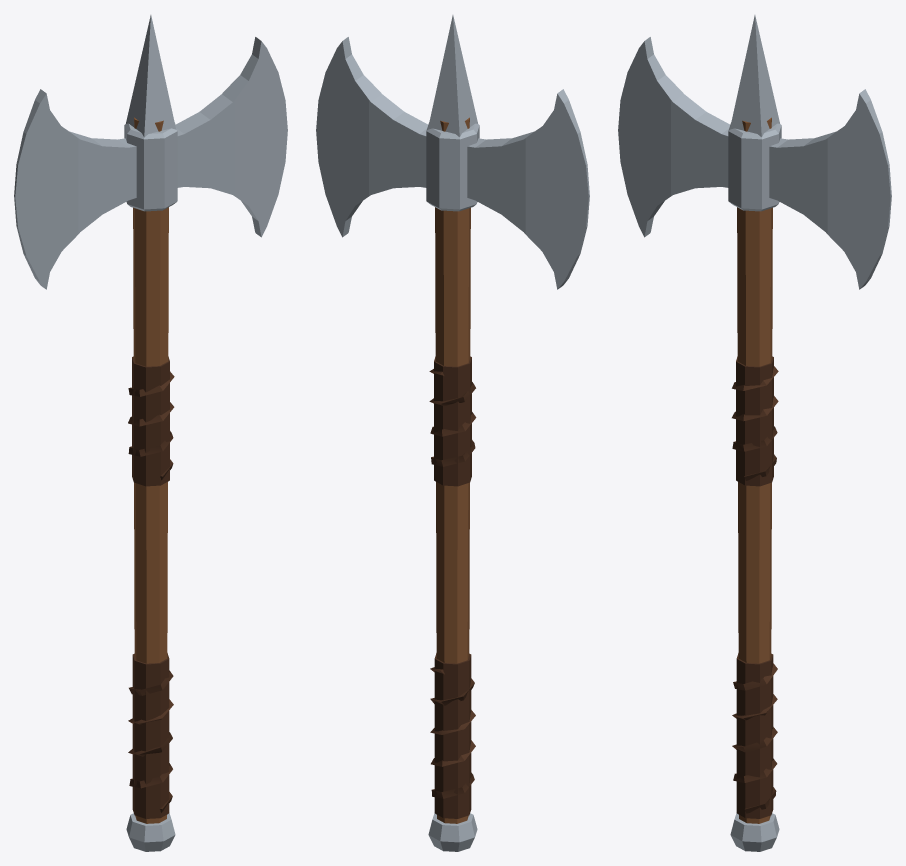
Rendered from battle_axe.glb.
3 renders of one model, left to right at view 1: azimuth 30°, elevation 25°; view 2: azimuth 150°, elevation 25°; view 3: azimuth 330°, elevation 25°, orthographic.
Visible parts, largest first — view 1: head, haft, grip_low, grip_up, collar, spike, butt_cap, wrap_low, wrap_up; view 2: head, haft, grip_low, grip_up, collar, spike, butt_cap, wrap_low, wrap_up; view 3: head, haft, grip_low, grip_up, collar, spike, butt_cap, wrap_low, wrap_up.
Boxes of the visible parts, left/top/right/bottom form: head: left=14, top=37, right=287, bottom=289; haft: left=133, top=117, right=168, bottom=823; grip_low: left=132, top=653, right=169, bottom=818; grip_up: left=132, top=356, right=169, bottom=486; collar: left=124, top=122, right=177, bottom=211; spike: left=126, top=15, right=175, bottom=137; butt_cap: left=126, top=813, right=175, bottom=851; wrap_low: left=128, top=670, right=173, bottom=812; wrap_up: left=128, top=371, right=174, bottom=480; head: left=316, top=37, right=589, bottom=289; haft: left=435, top=117, right=470, bottom=823; grip_low: left=434, top=653, right=471, bottom=818; grip_up: left=434, top=356, right=471, bottom=486; collar: left=426, top=122, right=479, bottom=211; spike: left=428, top=15, right=477, bottom=137; butt_cap: left=428, top=813, right=477, bottom=851; wrap_low: left=430, top=667, right=475, bottom=798; wrap_up: left=429, top=369, right=476, bottom=466; head: left=618, top=37, right=891, bottom=289; haft: left=737, top=117, right=772, bottom=823; grip_low: left=736, top=653, right=773, bottom=818; grip_up: left=736, top=356, right=773, bottom=486; collar: left=728, top=122, right=781, bottom=211; spike: left=730, top=15, right=779, bottom=137; butt_cap: left=730, top=813, right=779, bottom=851; wrap_low: left=732, top=663, right=777, bottom=813; wrap_up: left=732, top=366, right=778, bottom=480.
Bounding box in the file's own units: 0.48 × 1.4 × 0.084.
